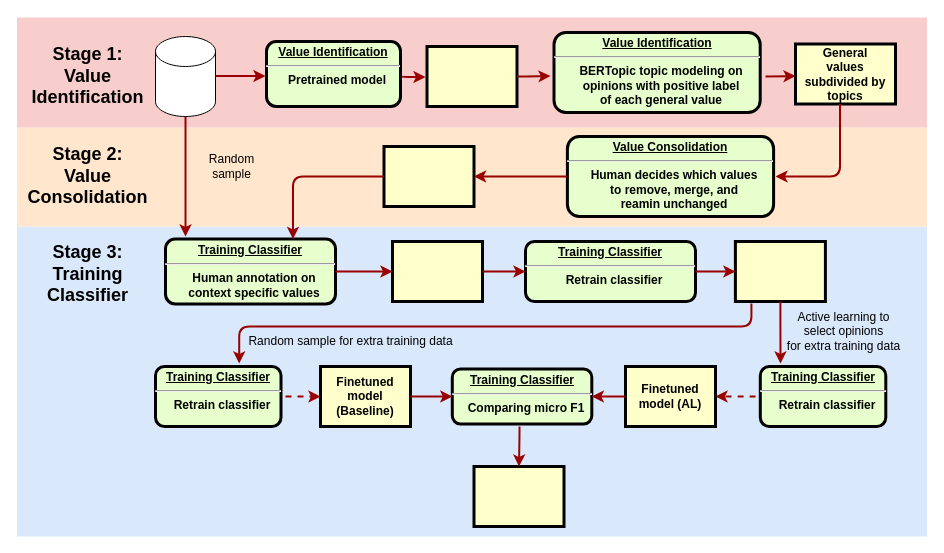
The diagram is 944 pixels wide and 553 high, and some of its shapes have lost their labels. The centre of each missing label's shape, as x and y in pixels:
"Context specific values" goes at pixel 428 176.
"Finetuned model" goes at pixel 779 271.
"General values" goes at pixel 471 76.
"Initial training data" goes at pixel 437 271.
"PVE opinions" goes at pixel 185 76.
"Result" goes at pixel 518 496.
